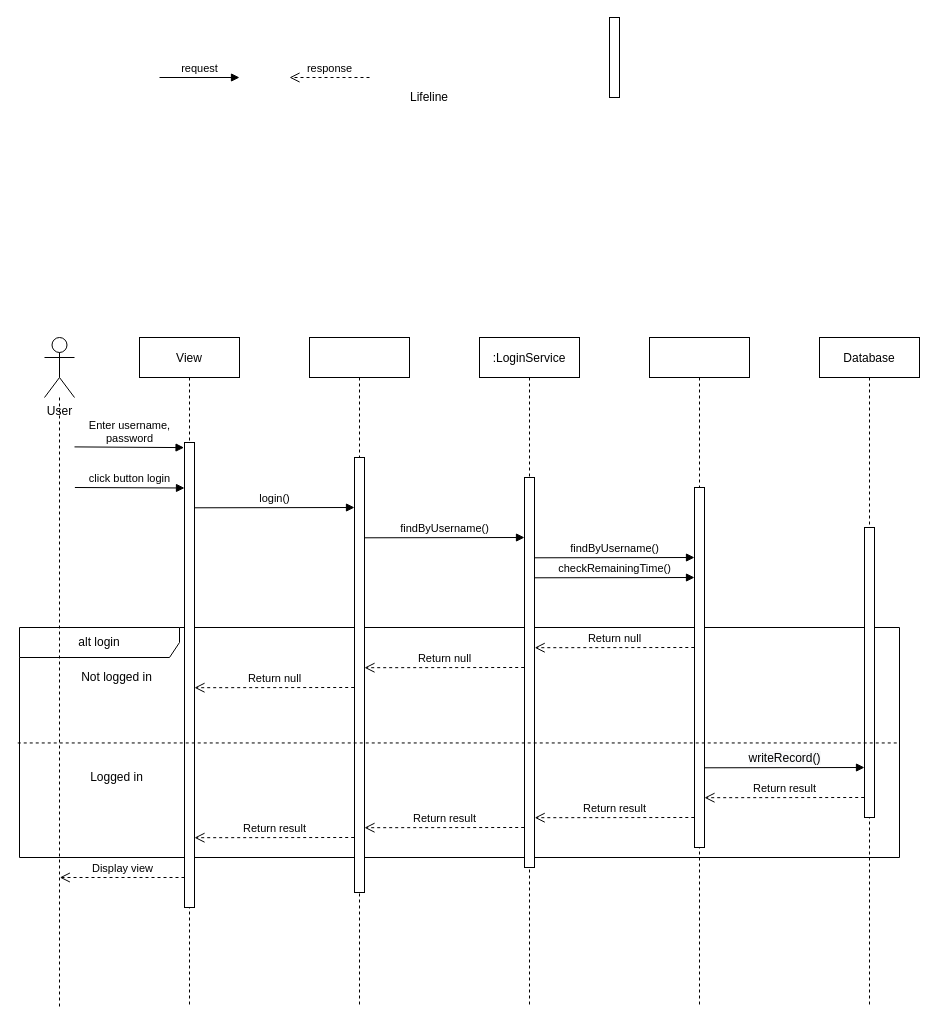
Some shapes in this 937 by 1026 pixel diagram are drawn without their labels. Each missing label, with the box of its shape:
:LoginController: (308, 336, 410, 1008)
:LoginRepository: (648, 336, 750, 1008)
